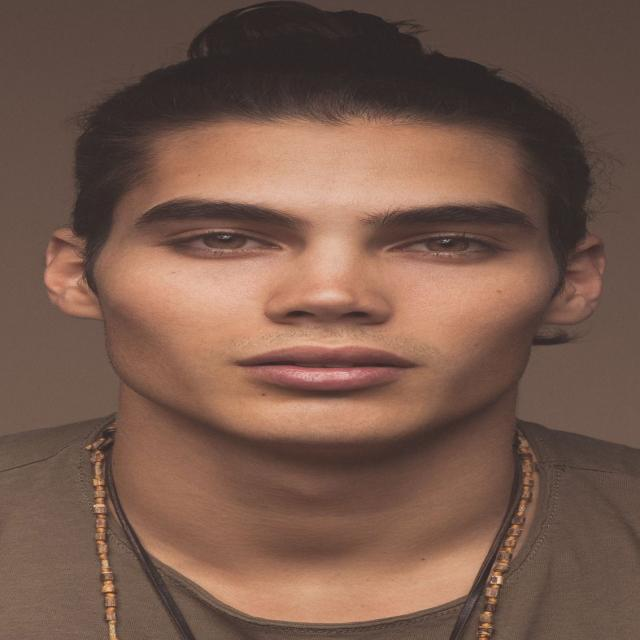earlobe: (59, 294, 106, 321), (544, 297, 587, 326)
eye: (170, 230, 284, 253), (390, 234, 501, 255)
nose: (265, 304, 395, 339)
wholeear: (41, 227, 106, 321), (544, 235, 607, 326)
